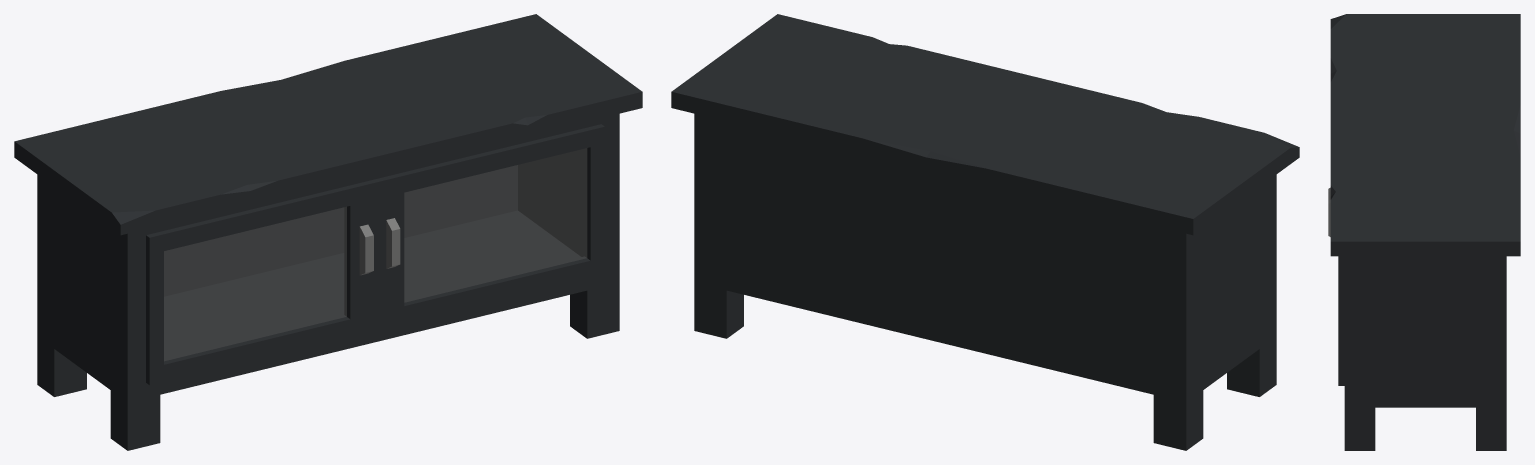
The model's file is SM_Prop_TVCabinet_02_Combined.fbx.
3 renders of one model, left to right at view 1: azimuth 30°, elevation 25°; view 2: azimuth 150°, elevation 25°; view 3: azimuth 270°, elevation 25°, orthographic. The views are drawn at different scales.
Parts seen in each view (by area): view 1: SM_Prop_TVCabinet_02_Combined; view 2: SM_Prop_TVCabinet_02_Combined; view 3: SM_Prop_TVCabinet_02_Combined.
Boxes of the visible parts, x1,y1,x2,y2 form: SM_Prop_TVCabinet_02_Combined: (14,14,642,450); SM_Prop_TVCabinet_02_Combined: (671,14,1299,450); SM_Prop_TVCabinet_02_Combined: (1328,14,1520,450).
Bounding box in the file's own units: 168 × 74.35 × 60.06.
